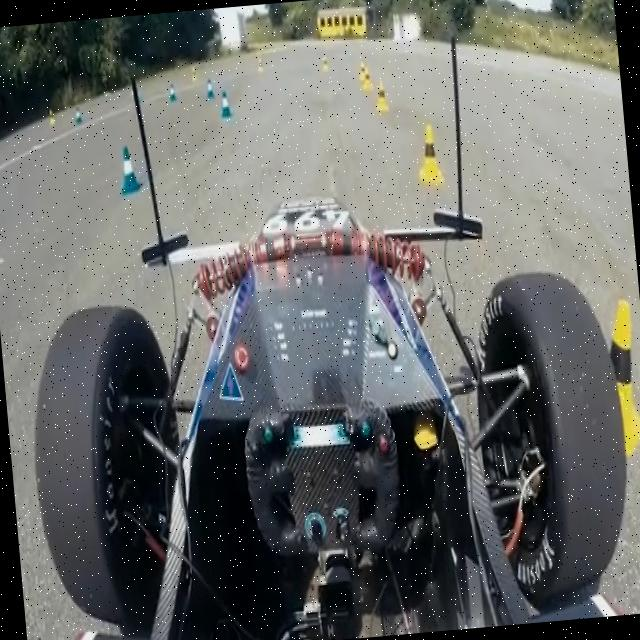blue_cone: (116, 142, 142, 195), (218, 89, 232, 119), (166, 82, 178, 103), (205, 76, 215, 100)
yellow_cone: (587, 292, 640, 464), (414, 120, 444, 188), (373, 78, 390, 112), (361, 65, 374, 91)
